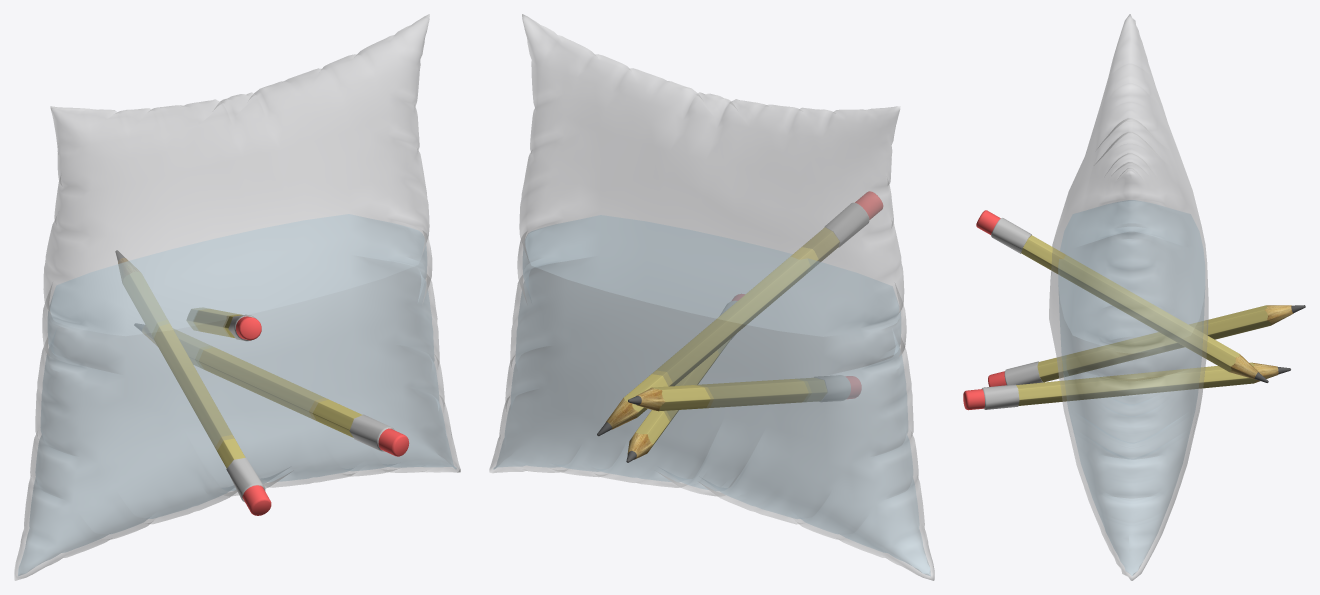
The model's file is 16_physics.glb.
3 views of the same model, side by side, from view 1: azimuth 30°, elevation 25°; view 2: azimuth 150°, elevation 25°; view 3: azimuth 270°, elevation 25° (orthographic). The views are drawn at different scales.
Parts seen in each view (by area): view 1: Plane_2, Plane.001_6, Cylinder.000_4, Cylinder.004_3, Cylinder.001_5; view 2: Plane_2, Plane.001_6, Cylinder.001_5, Cylinder.000_4, Cylinder.004_3; view 3: Plane_2, Plane.001_6, Cylinder.001_5, Cylinder.004_3, Cylinder.000_4.
Part boxes in pixels (x1=…): Plane_2: x1=14, y1=14, x2=460, y2=580; Plane.001_6: x1=18, y1=214, x2=456, y2=575; Cylinder.000_4: x1=115, y1=250, x2=271, y2=515; Cylinder.004_3: x1=134, y1=323, x2=409, y2=456; Cylinder.001_5: x1=187, y1=308, x2=261, y2=341; Plane_2: x1=489, y1=14, x2=934, y2=580; Plane.001_6: x1=493, y1=215, x2=930, y2=575; Cylinder.001_5: x1=597, y1=191, x2=882, y2=436; Cylinder.000_4: x1=628, y1=375, x2=861, y2=411; Cylinder.004_3: x1=626, y1=294, x2=744, y2=462; Plane_2: x1=1049, y1=14, x2=1208, y2=580; Plane.001_6: x1=1058, y1=200, x2=1204, y2=575; Cylinder.001_5: x1=976, y1=210, x2=1268, y2=382; Cylinder.004_3: x1=963, y1=362, x2=1290, y2=410; Cylinder.000_4: x1=988, y1=305, x2=1305, y2=386.
Size of the model in its own units: 1.9 by 1.9 by 1.49.
7 materials, 1 textured.
